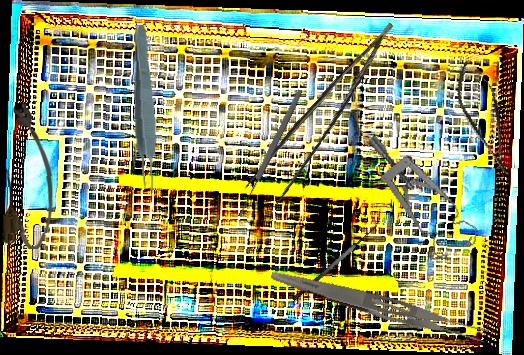Cannula: (2, 103, 55, 249)
Dressing Forceps: (267, 266, 491, 348)
Micro Scissor: (446, 55, 524, 184)
Spatula Surgical: (285, 217, 383, 302)
Speculum: (366, 116, 483, 271)
Surgical Spoon: (235, 88, 305, 218)
Tissue Forceps: (238, 21, 421, 213), (128, 24, 160, 194)
